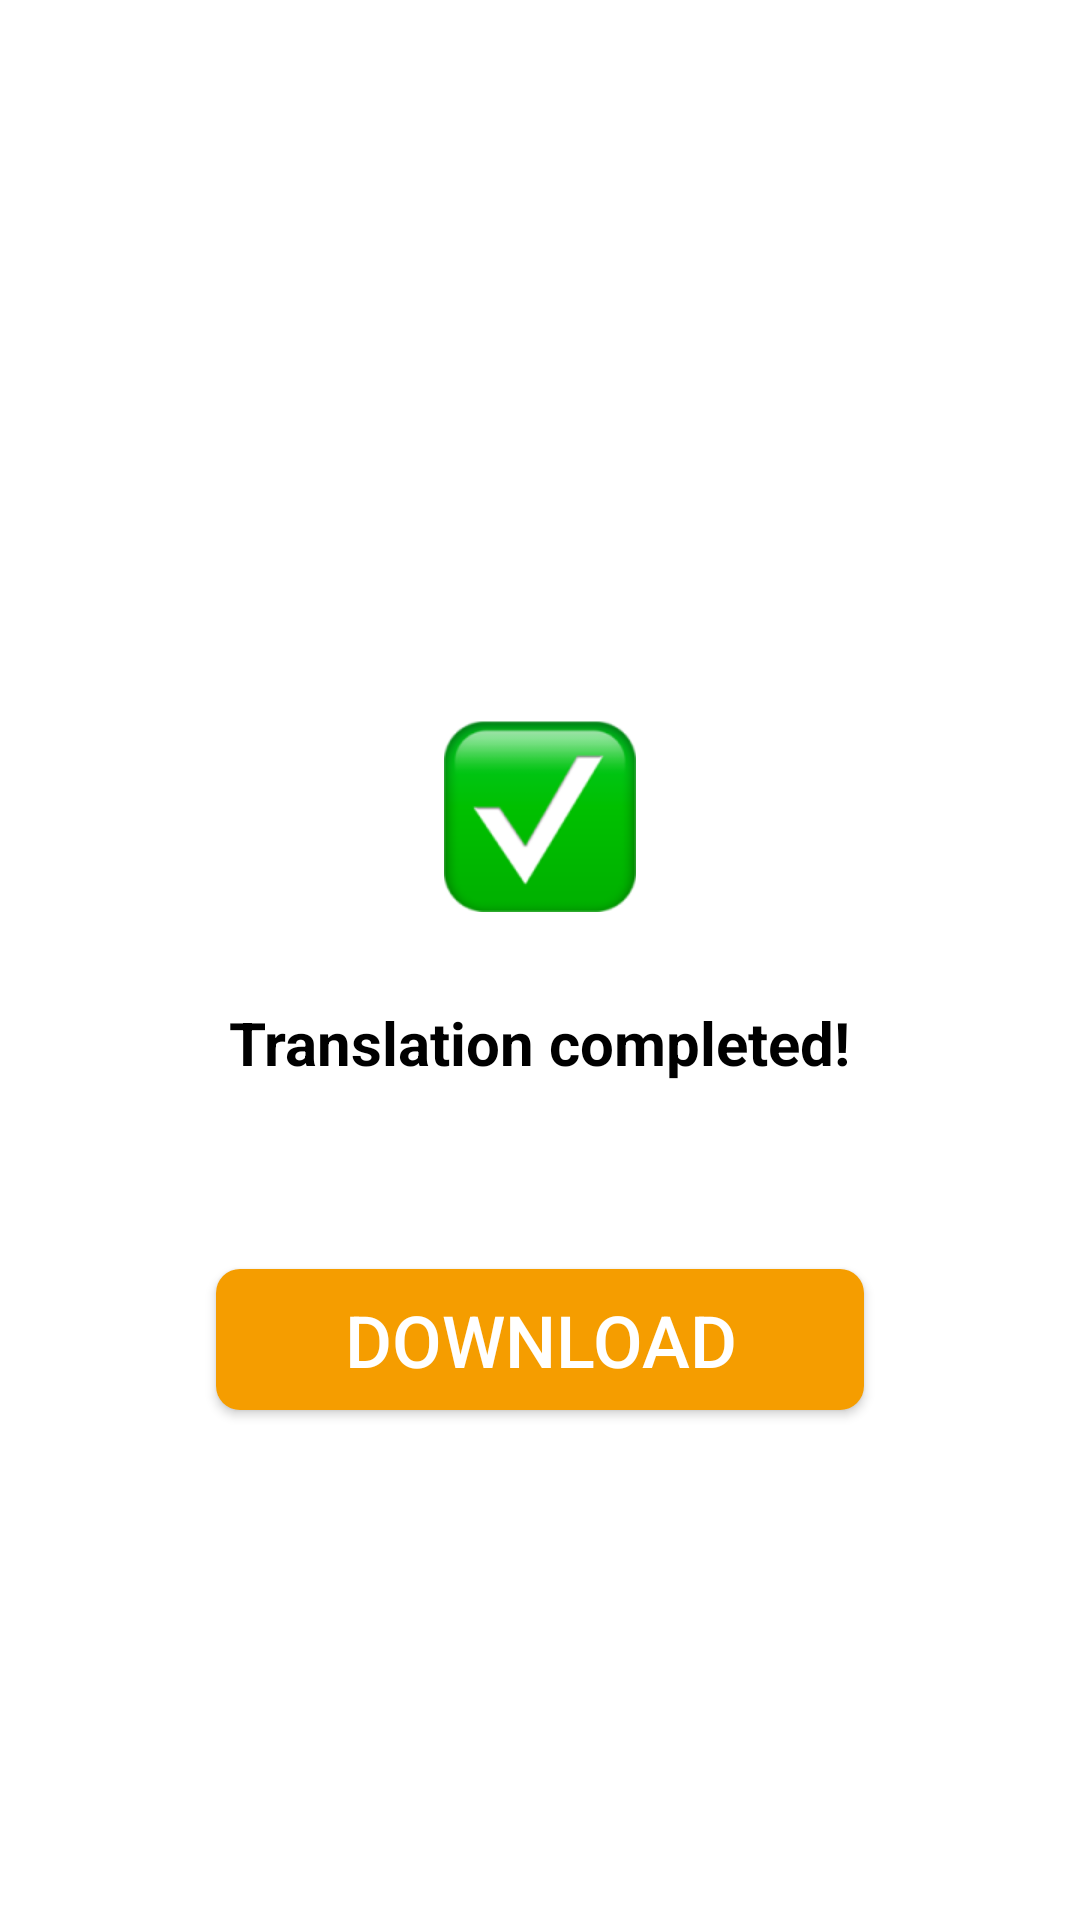

Icon click points for this 1080*1920 phone screenshot, format (x,y):
check: (540,816)
